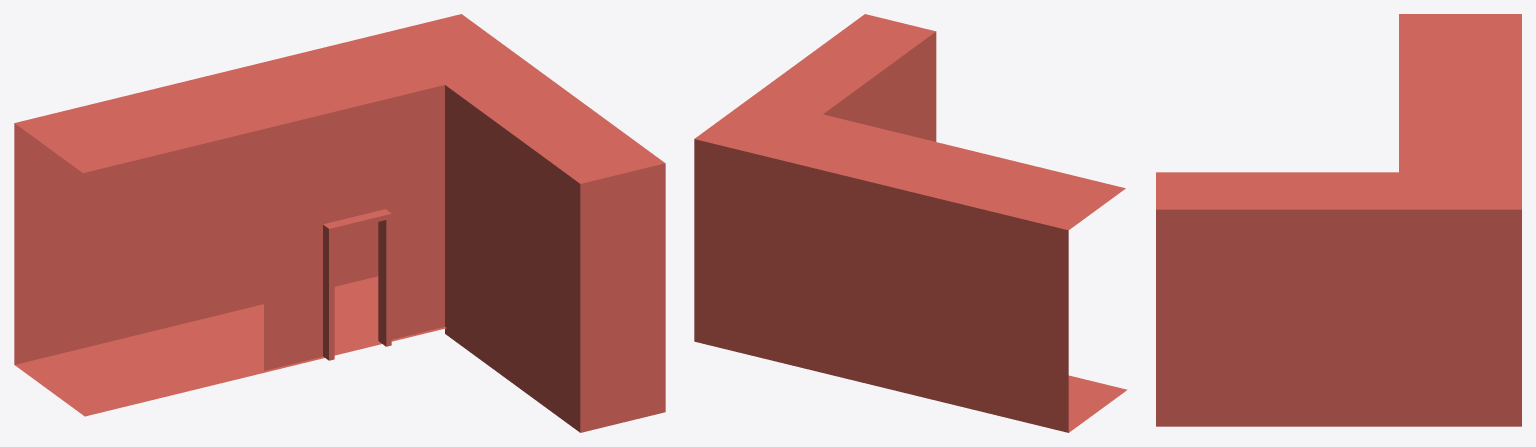
Rendered from SegundoPiso.fbx.
The picture shows the model from 3 angles, left to right: view 1: azimuth 30°, elevation 25°; view 2: azimuth 150°, elevation 25°; view 3: azimuth 270°, elevation 25°; orthographic projection. The views are drawn at different scales.
Parts seen in each view (by area): view 1: Pared_SP, Techo_SP, Cube.032, Plane.001, Puerta_PP.001; view 2: Pared_SP, Techo_SP, Plane.001; view 3: Pared_SP, Techo_SP.
Boxes of the visible parts, x1=… form: Pared_SP: x1=14, y1=85, x2=665, y2=432; Techo_SP: x1=15, y1=14, x2=664, y2=183; Cube.032: x1=264, y1=85, x2=444, y2=370; Plane.001: x1=15, y1=276, x2=446, y2=416; Puerta_PP.001: x1=323, y1=209, x2=391, y2=360; Pared_SP: x1=694, y1=31, x2=1068, y2=432; Techo_SP: x1=694, y1=14, x2=1125, y2=230; Plane.001: x1=1068, y1=375, x2=1127, y2=432; Pared_SP: x1=1156, y1=209, x2=1521, y2=426; Techo_SP: x1=1156, y1=14, x2=1521, y2=209.
Size of the model in its own units: 782 by 416 by 618.
